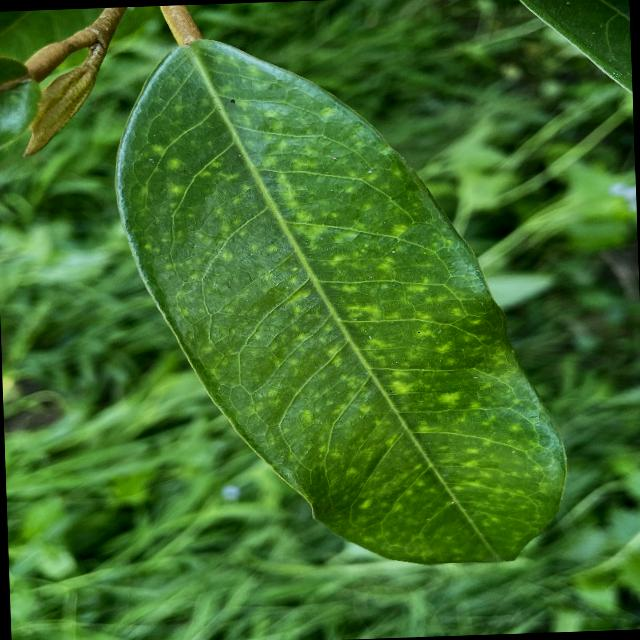Leaf Spot: (100, 16, 578, 588)
